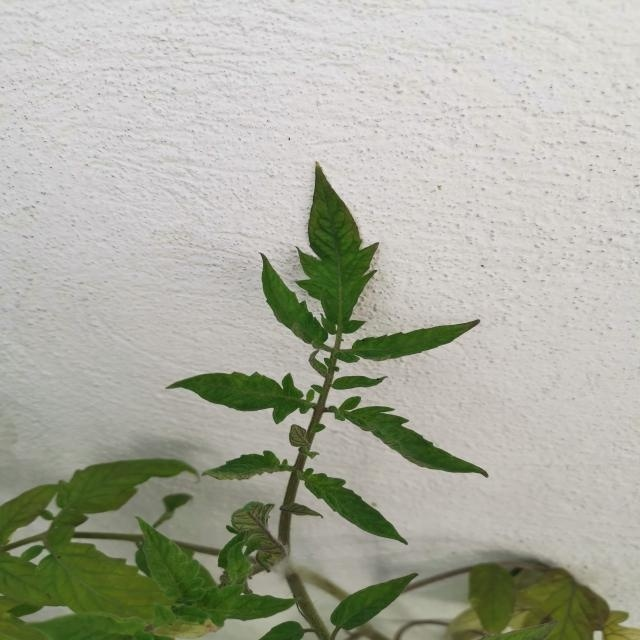T_L_R: (296, 162, 380, 326), (329, 397, 488, 479), (297, 469, 410, 546), (166, 373, 316, 426), (260, 254, 335, 351), (136, 519, 209, 607), (350, 321, 482, 362), (331, 573, 421, 632), (203, 452, 296, 482), (333, 377, 390, 391), (335, 352, 361, 365), (312, 424, 327, 434)
